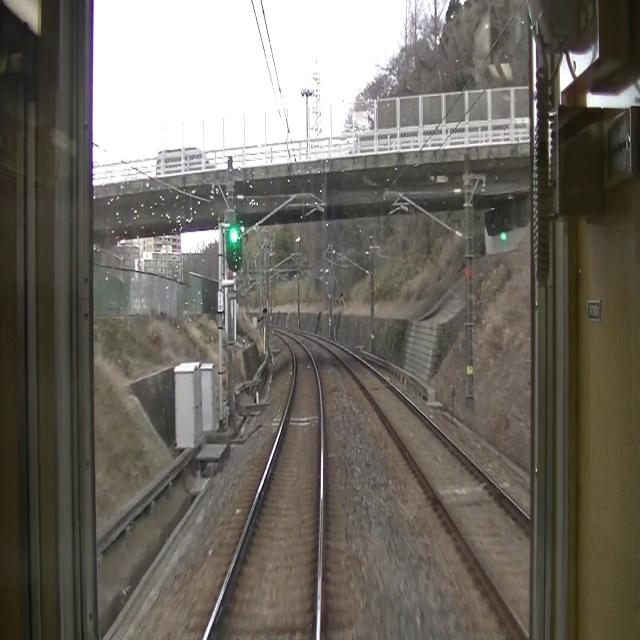rail-track: (327, 344, 527, 623), (207, 335, 319, 639)
